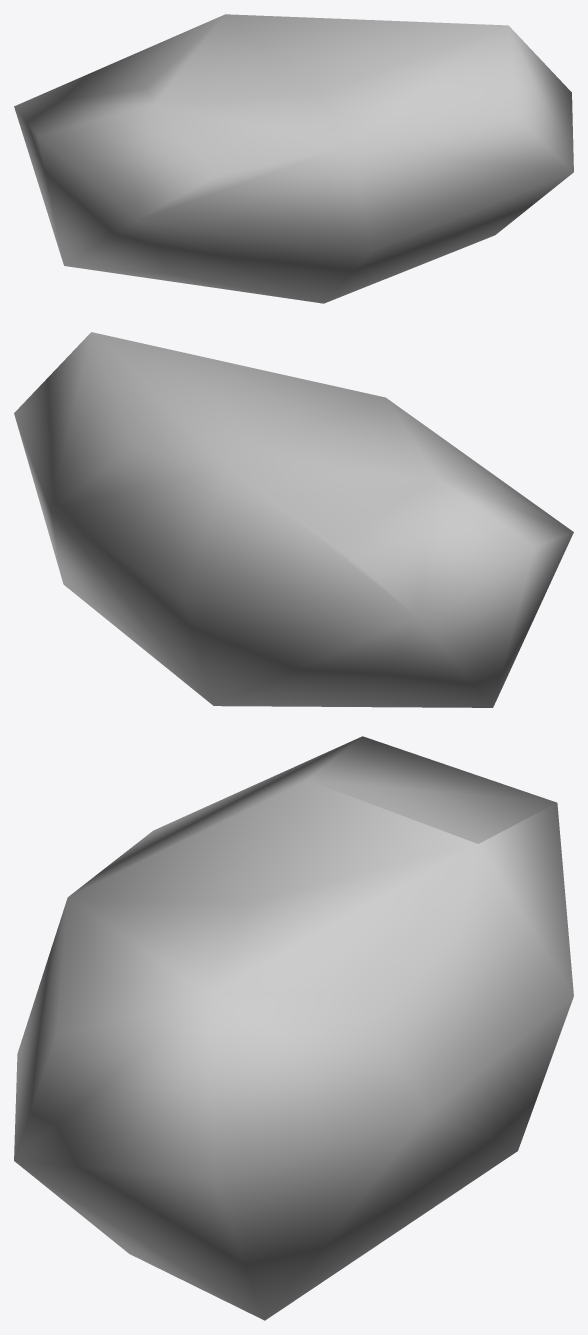
The model's file is Cloud002.glb.
3 renders of one model, top to bottom at view 1: azimuth 30°, elevation 25°; view 2: azimuth 150°, elevation 25°; view 3: azimuth 270°, elevation 25°, orthographic. The views are drawn at different scales.
Parts seen in each view (by area): view 1: Cloud002; view 2: Cloud002; view 3: Cloud002.
Part boxes in pixels (x1,y1,x2,y2): Cloud002: (14,14,573,303); Cloud002: (14,332,573,707); Cloud002: (14,736,573,1320).
Bounding box in the file's own units: 515 × 235 × 323.
Materials: 1 (1 with a texture image).
